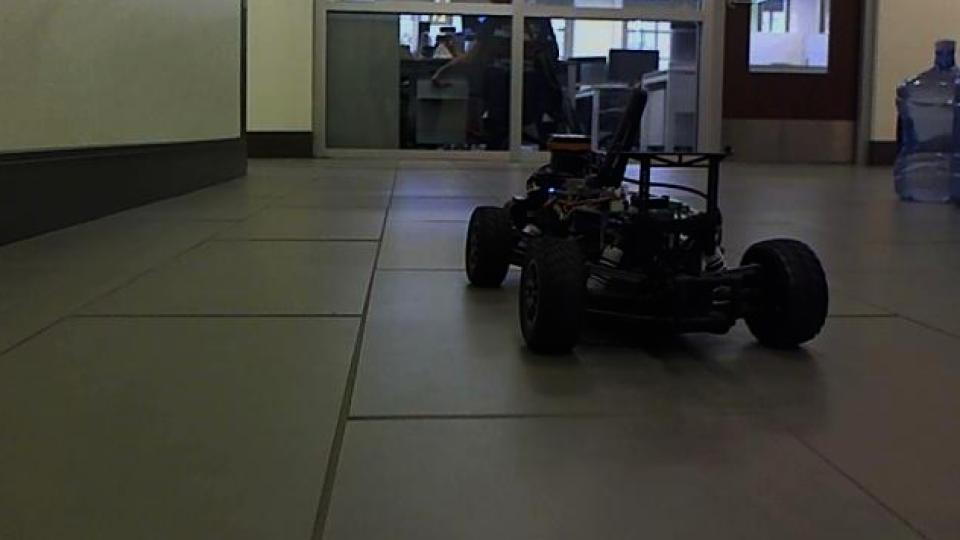car: (457, 82, 835, 362)
